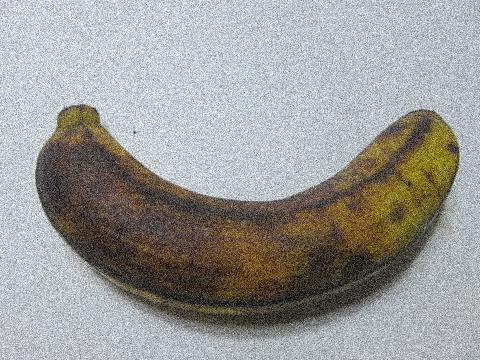overripe: (21, 94, 462, 328)
